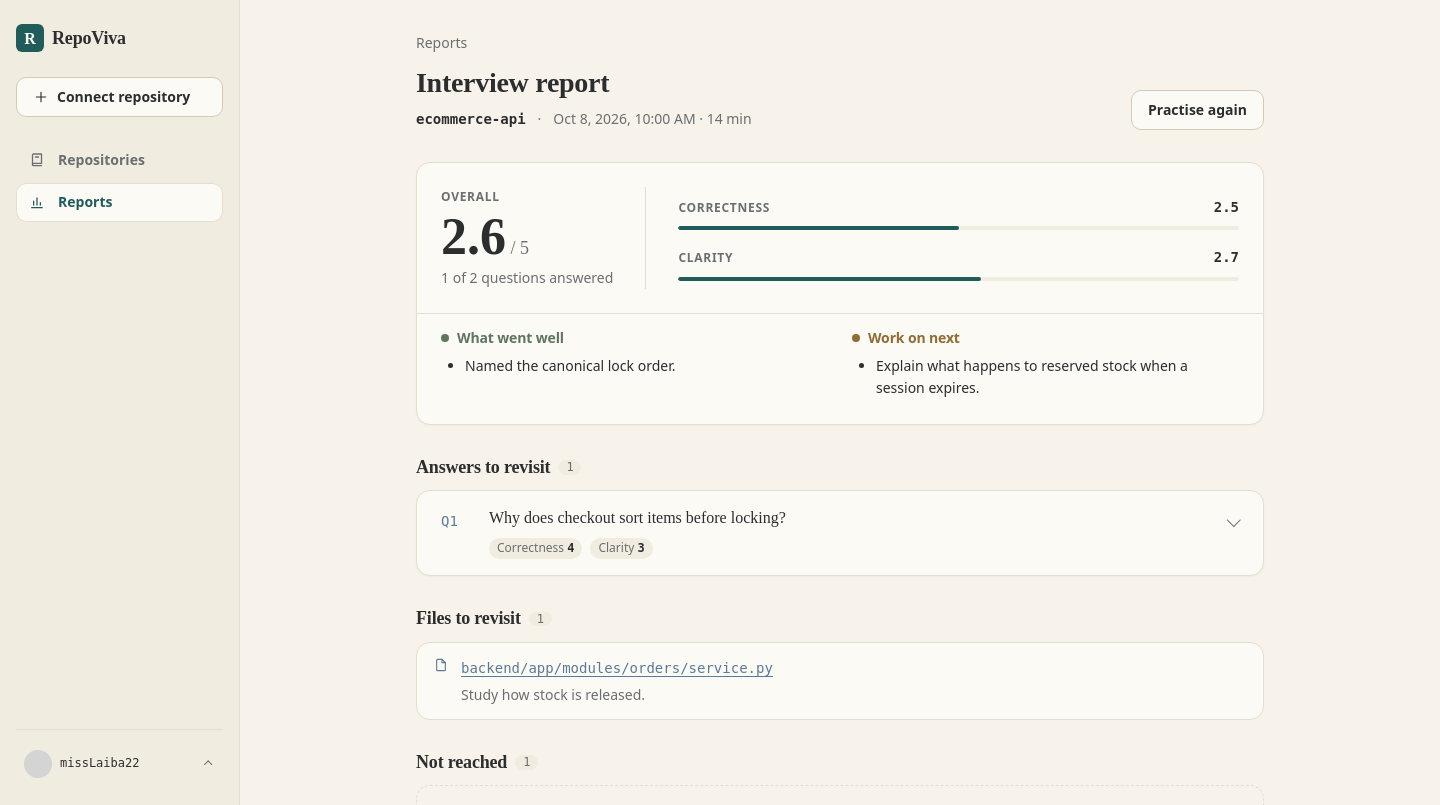
Test case: report › shows each question with its feedback, key points and sources
The width and height of the screenshot is (1440, 805).
What coordinates should you click on to do the following:
click the text "Why does checkout sort items before locking?"
I would click on:
 (637, 518)
Its box is x1=489 y1=509 x2=786 y2=526.
(page scrolled)
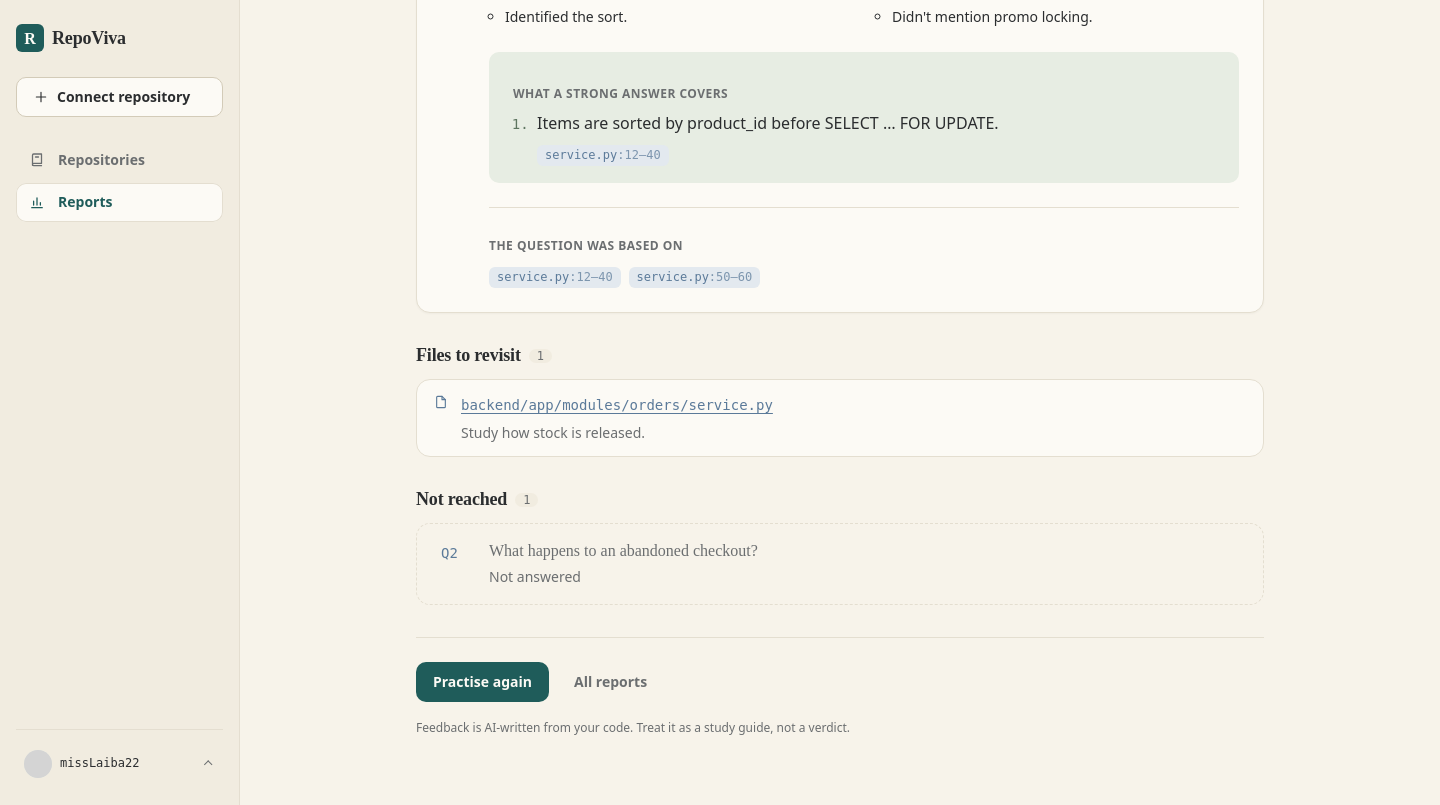
Expected: the text "Not answered" is shown, x1=489 y1=567 x2=581 y2=586
Now the text "Items are sorted by product_id before SELECT … FOR UPDATE." is shown, box x1=537 y1=112 x2=999 y2=134
